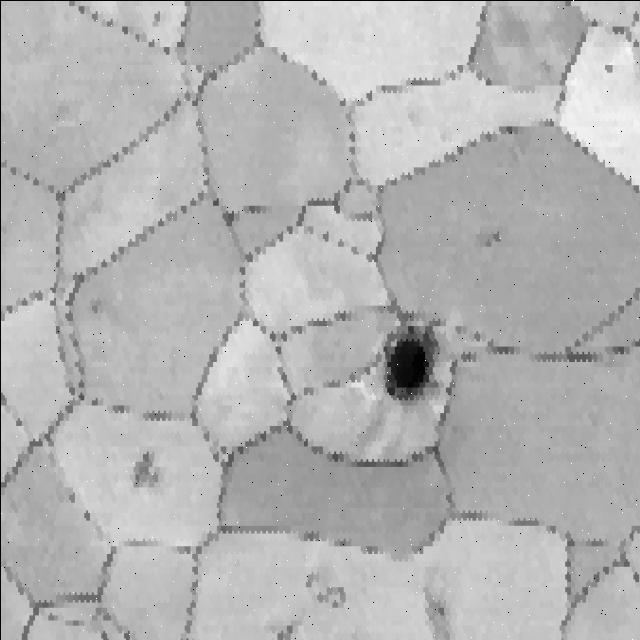good_void: (372, 325, 438, 408), (297, 561, 352, 616), (418, 582, 461, 640), (131, 449, 166, 491), (477, 222, 513, 257), (264, 615, 306, 640), (238, 199, 272, 222), (88, 291, 104, 319), (151, 6, 164, 31), (602, 58, 616, 77)
